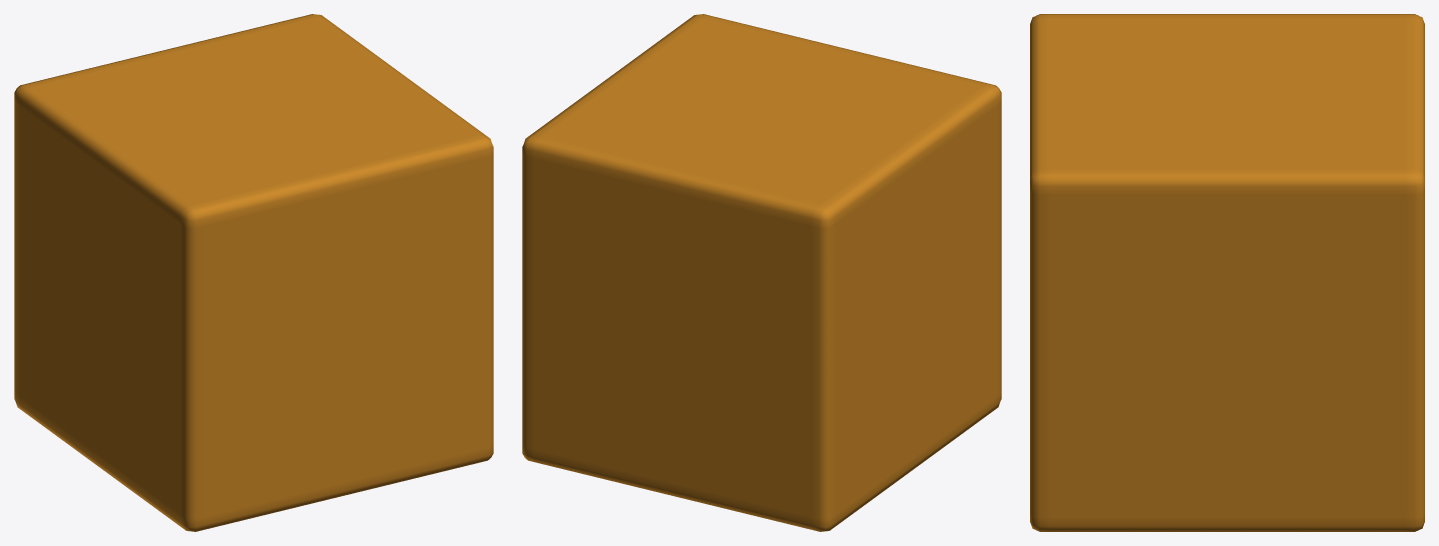
File: Metalic_Cube_fbx.fbx
The picture shows the model from 3 angles, left to right: view 1: azimuth 30°, elevation 25°; view 2: azimuth 150°, elevation 25°; view 3: azimuth 270°, elevation 25°; orthographic projection. The views are drawn at different scales.
Visible parts, largest first — view 1: Box002; view 2: Box002; view 3: Box002.
Part boxes in pixels (x1,y1,x2,y2): Box002: [14, 14, 493, 531]; Box002: [522, 14, 1001, 531]; Box002: [1030, 14, 1424, 531].
Size of the model in its own units: 20 by 20 by 20.
